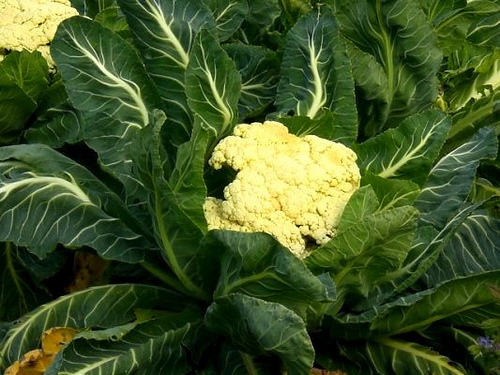cauliflower: (203, 121, 361, 258), (0, 0, 82, 74)
